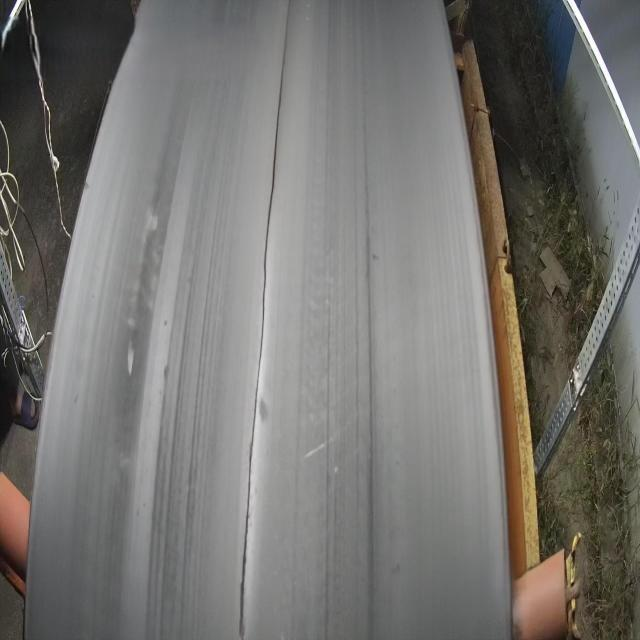Tear: (233, 30, 292, 640)
